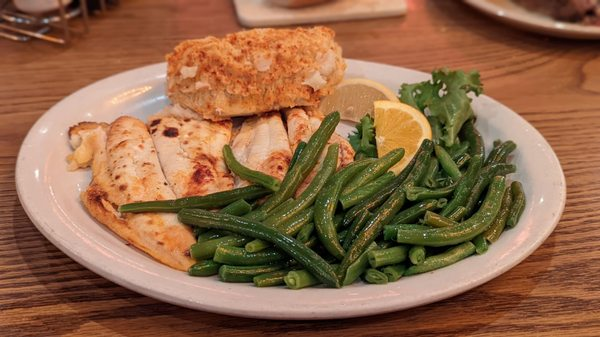soup: (162, 25, 347, 121)
